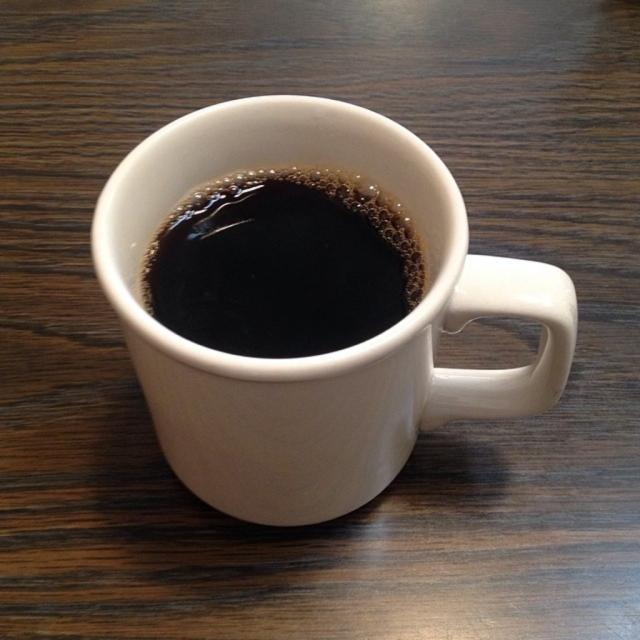Tea: (136, 169, 422, 355)
